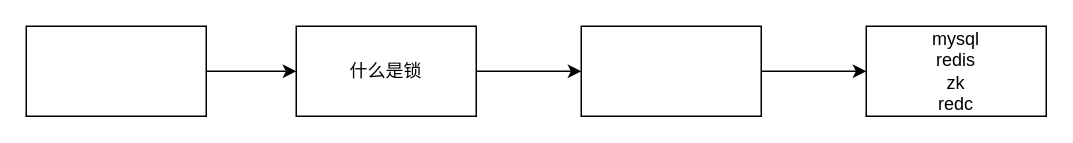
Image size: 1073x143. Some labels were removed from this diagram. The centre of each missing label's shape, as x and y in pixels:
分布式锁 JVM锁 区别: point 670,70
扫盲: point 115,70
